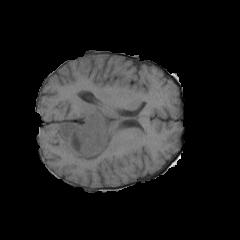glioma: (58, 92, 145, 161)
